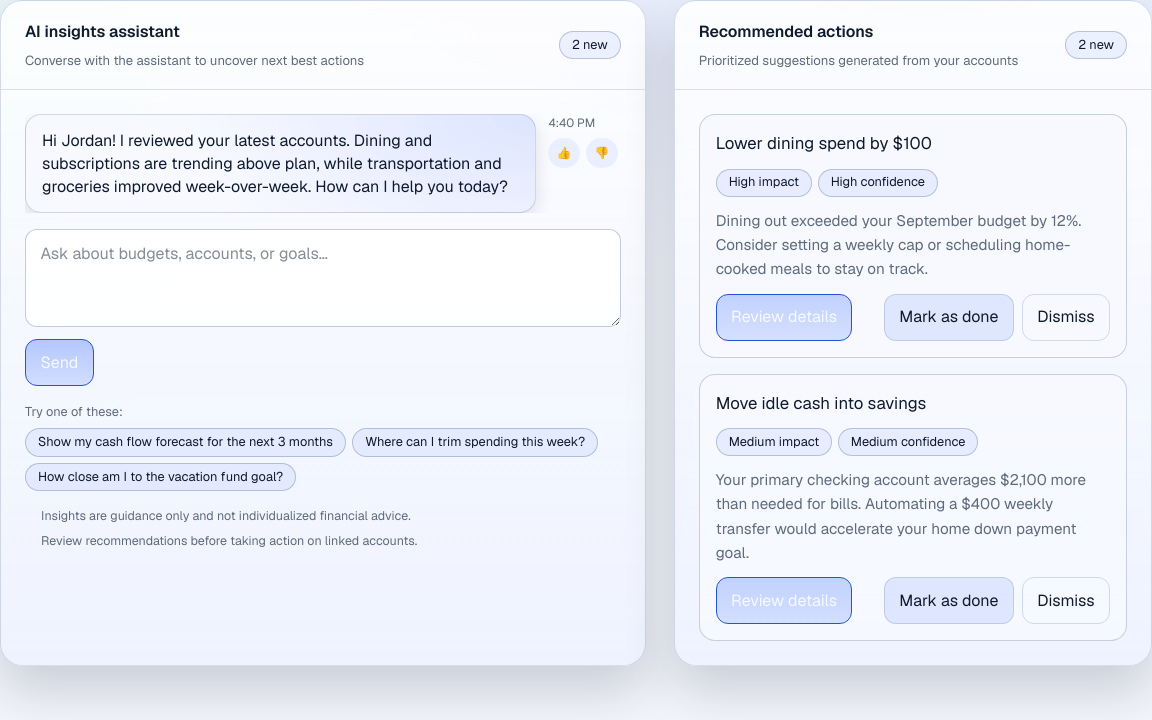
InsightsWorkspace › updates a recommendation status when marked done
Click the button "Mark as done" below "High impact" at coordinates (949, 317), box [884,294,1014,341]
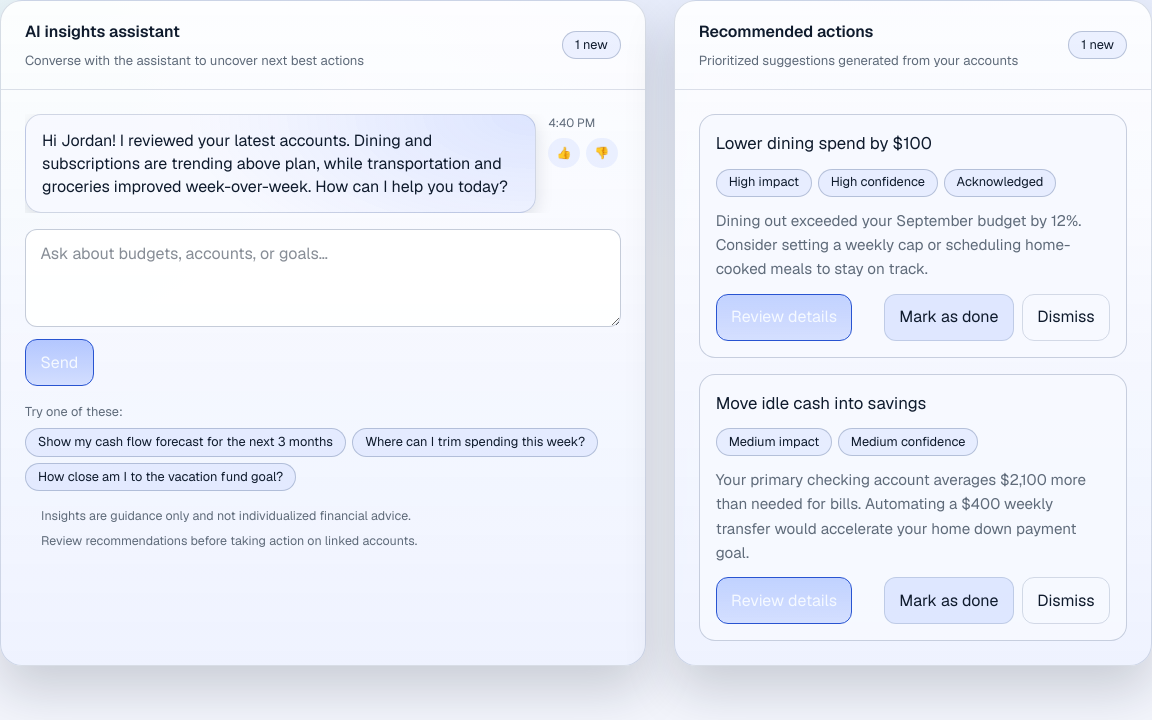
Check: the text "Acknowledged" is shown, box [944,169,1056,197]
